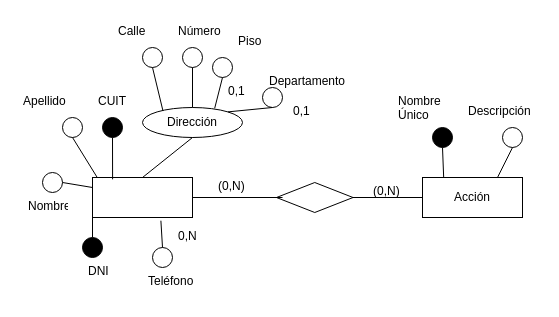
The diagram is 559 pixels wide and 317 high, and some of its shapes have lost their labels. The centre of each missing label's shape, as x and y in pixels:
"Persona" goes at pixel 142 197.
"Realiza" goes at pixel 314 197.
